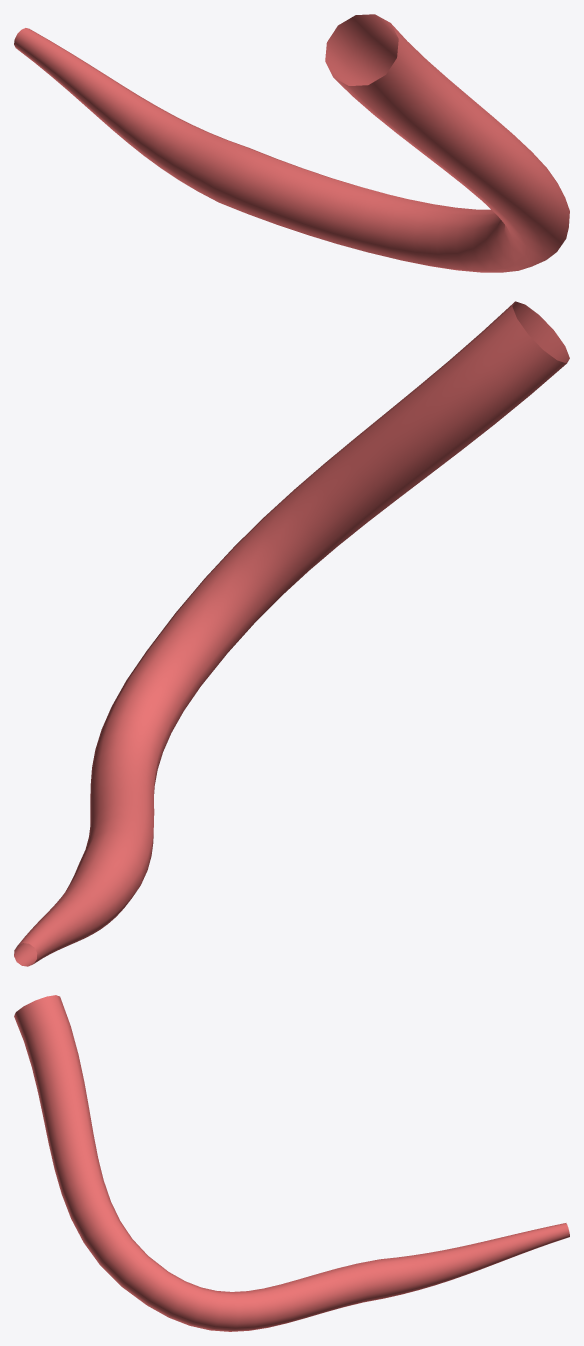
The model's file is Calcaneal_branches_of_posterior_tibial_artery.l_BezierCurve.365.glb.
The picture shows the model from 3 angles, top to bottom: view 1: azimuth 30°, elevation 25°; view 2: azimuth 150°, elevation 25°; view 3: azimuth 270°, elevation 25°; orthographic projection. The views are drawn at different scales.
Parts seen in each view (by area): view 1: Calcaneal_branches_of_posterior_tibial_artery.l_BezierCurve.; view 2: Calcaneal_branches_of_posterior_tibial_artery.l_BezierCurve.; view 3: Calcaneal_branches_of_posterior_tibial_artery.l_BezierCurve..
Part boxes in pixels (box(x1,y1,x2,y2)): Calcaneal_branches_of_posterior_tibial_artery.l_BezierCurve.: box(14, 14, 569, 272); Calcaneal_branches_of_posterior_tibial_artery.l_BezierCurve.: box(14, 301, 569, 966); Calcaneal_branches_of_posterior_tibial_artery.l_BezierCurve.: box(14, 995, 569, 1331).
Bounding box in the file's own units: 0.00923 × 0.0117 × 0.0222.
